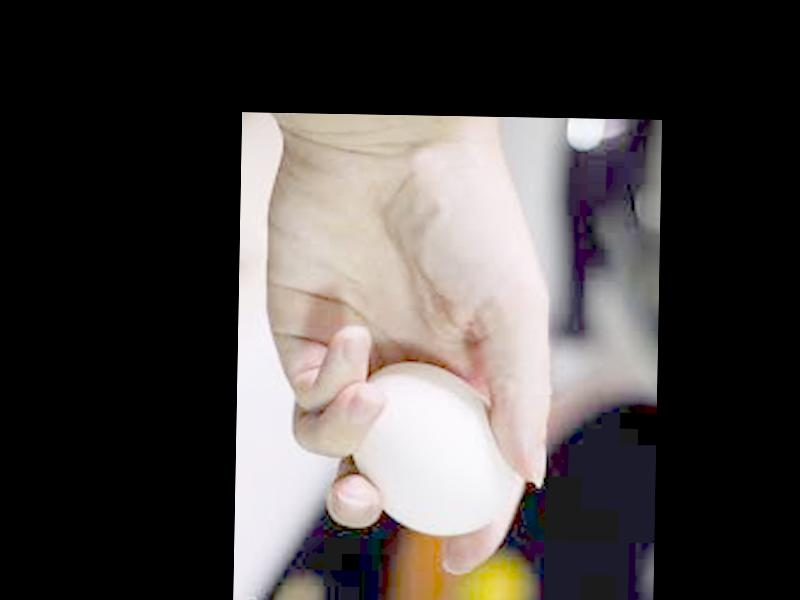Eggs: (353, 363, 514, 539)
